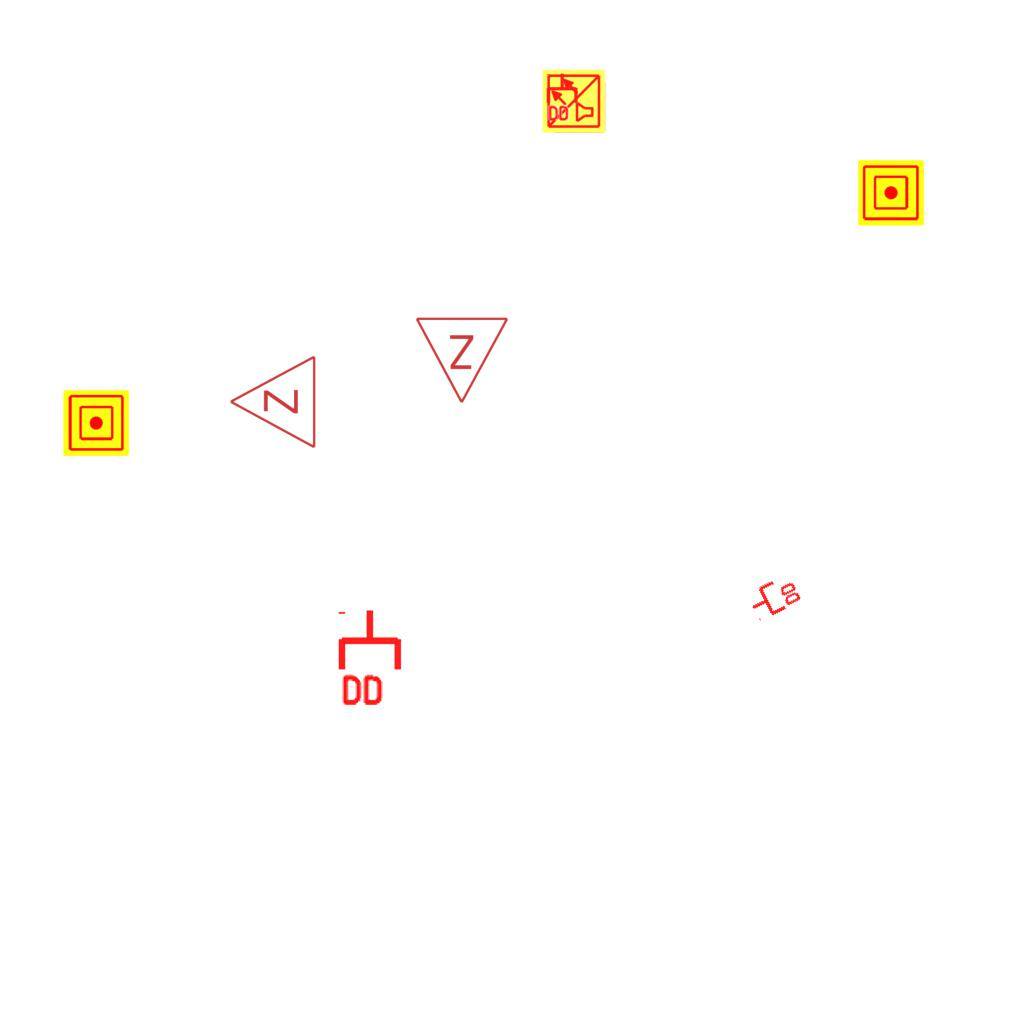Datenanschluss_zweifach: (337, 607, 406, 710), (743, 570, 805, 623), (546, 72, 580, 123)
NAM-Nichtautomatischer_Melder: (63, 390, 129, 456), (858, 160, 924, 226)
OKW_Multisensormelder_(Kombination_optischer_Rauch-Kahlenmonoxid_Waerme-Melder): (541, 68, 607, 134)
Zimmersignalleuchte: (414, 310, 512, 410), (223, 354, 323, 452)
